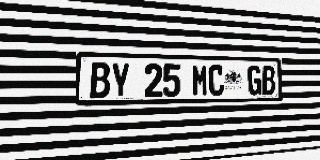2: (145, 63, 163, 97)
5: (163, 64, 180, 97)
B: (90, 62, 110, 98), (262, 66, 275, 95)
C: (208, 65, 224, 96)
G: (247, 65, 262, 95)
M: (192, 64, 208, 96)
Y: (111, 63, 130, 98)
